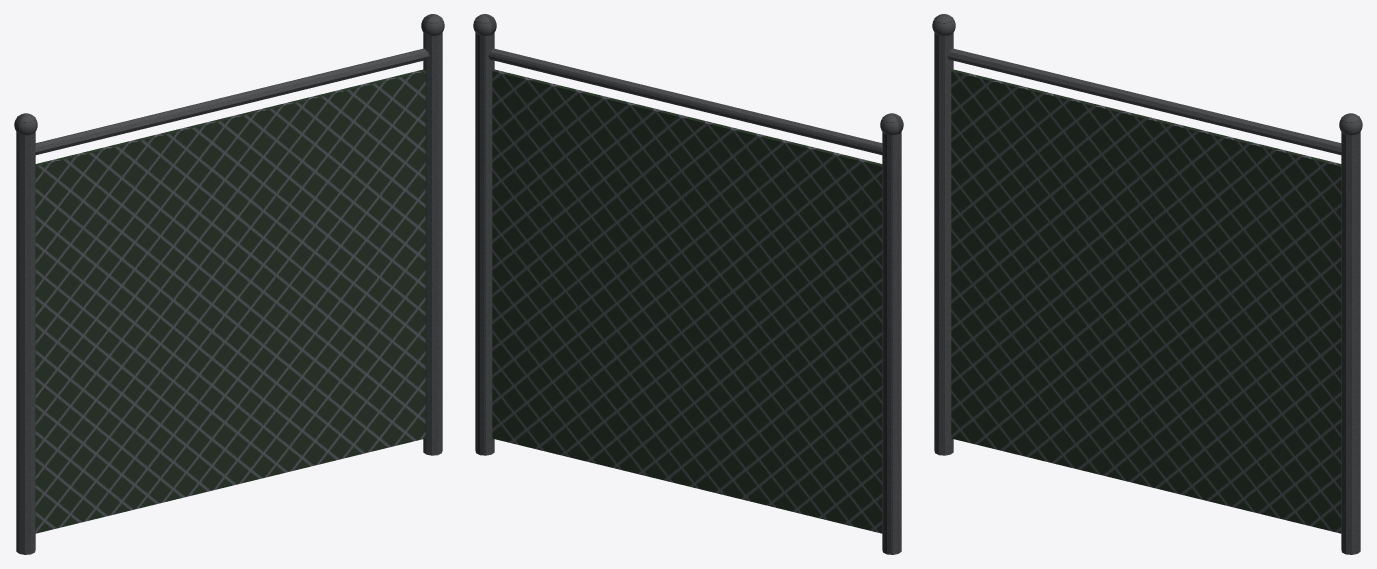
File: chainlink_2m.dae
The picture shows the model from 3 angles, left to right: view 1: azimuth 30°, elevation 25°; view 2: azimuth 150°, elevation 25°; view 3: azimuth 330°, elevation 25°; orthographic projection.
Visible parts, largest first — view 1: mesh, post_0, post_1, top_rail; view 2: mesh, post_0, post_1, top_rail; view 3: mesh, post_1, post_0, top_rail.
Boxes of the visible parts, left/top/right/bottom form: mesh: left=35, top=69, right=425, bottom=533; post_0: left=16, top=116, right=35, bottom=554; post_1: left=423, top=17, right=442, bottom=455; top_rail: left=35, top=48, right=429, bottom=155; mesh: left=492, top=69, right=882, bottom=533; post_0: left=882, top=116, right=901, bottom=554; post_1: left=475, top=17, right=494, bottom=455; top_rail: left=488, top=48, right=882, bottom=155; mesh: left=951, top=69, right=1341, bottom=533; post_1: left=1341, top=116, right=1360, bottom=554; post_0: left=934, top=17, right=953, bottom=455; top_rail: left=947, top=48, right=1341, bottom=155.
Size of the model in its own units: 2.02 by 0.096 by 1.97.
Materials: 2 (2 with a texture image).
